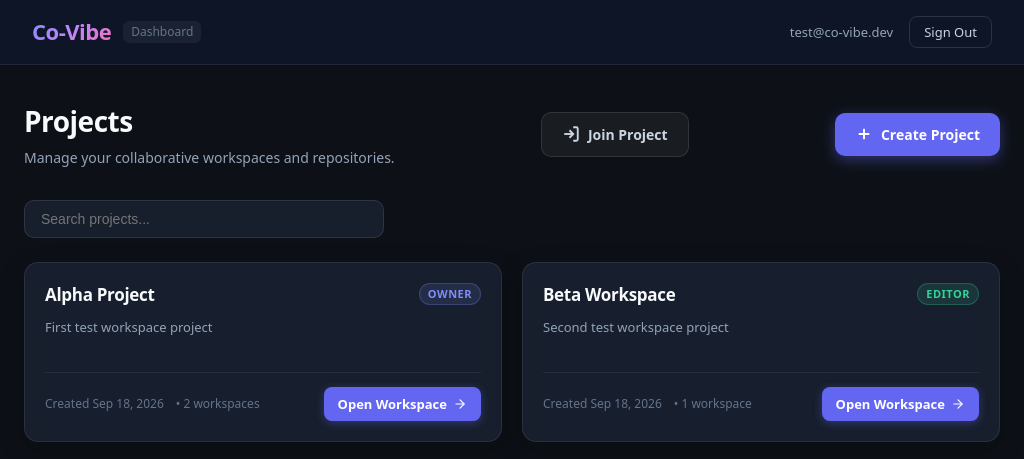
Test case: ProjectsPage Component › filters project cards by search input query
The width and height of the screenshot is (1024, 459).
Type "Alpha" into the field with test id "project-search-input".
click(204, 219); type("Alpha")  # box [24,200,384,238]
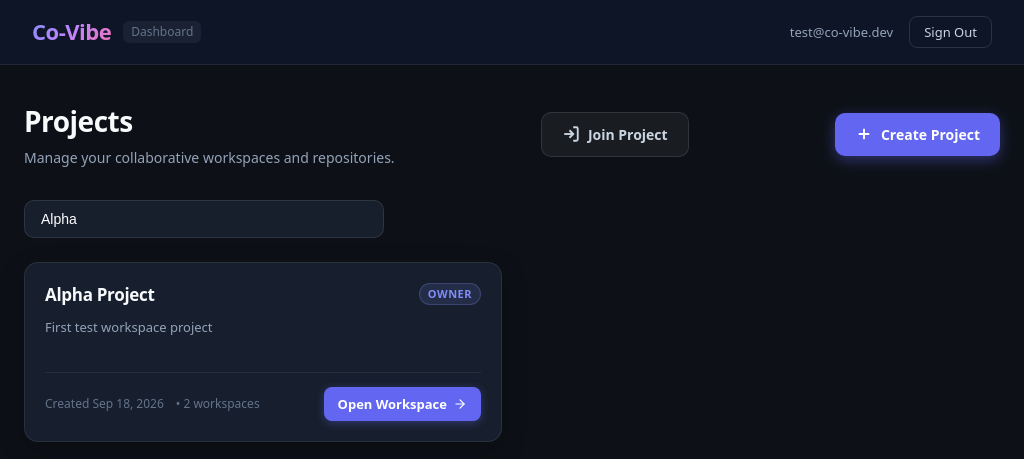
Expected: the heading "Alpha Project" is shown, [45,283,155,308]
Expected: the heading "Beta Workspace" is gone
